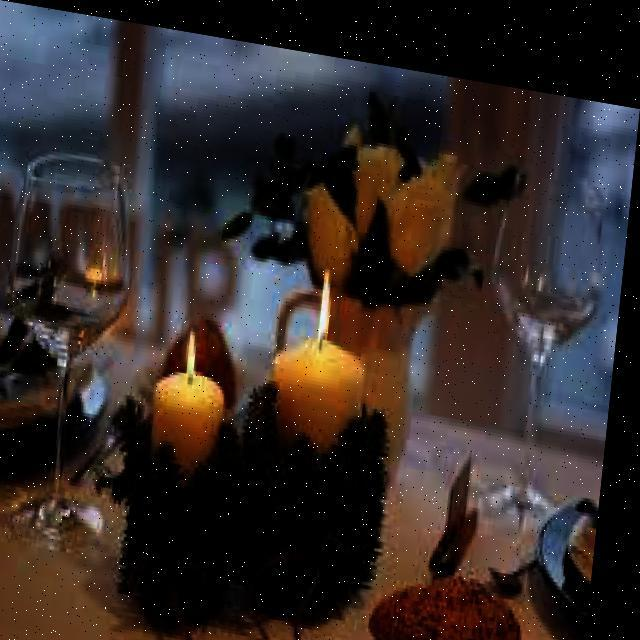Fire: (315, 252, 344, 325), (186, 316, 209, 378)
